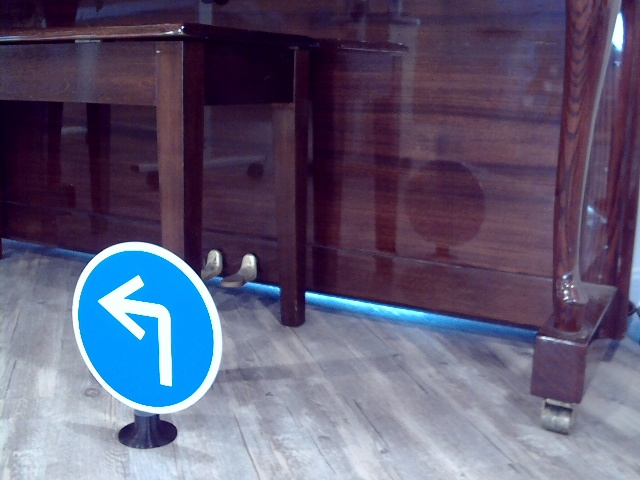turn_left: (92, 274, 185, 391)
